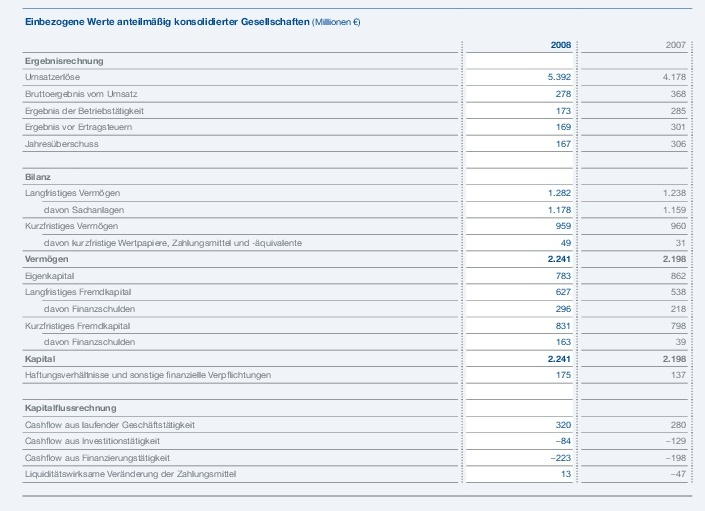table: (0, 0, 705, 511)
